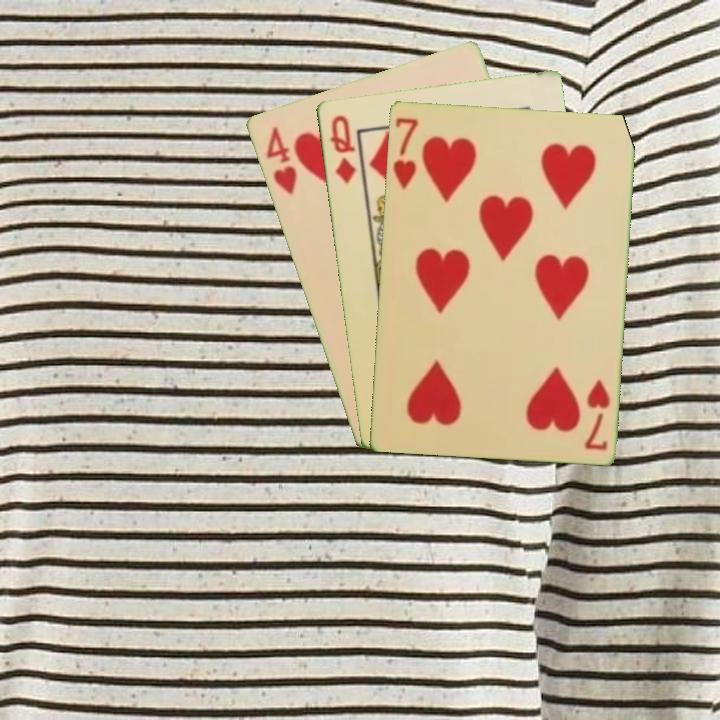4h: (262, 122, 299, 198)
7h: (388, 113, 420, 191), (581, 376, 613, 453)
Qd: (326, 111, 358, 187)
